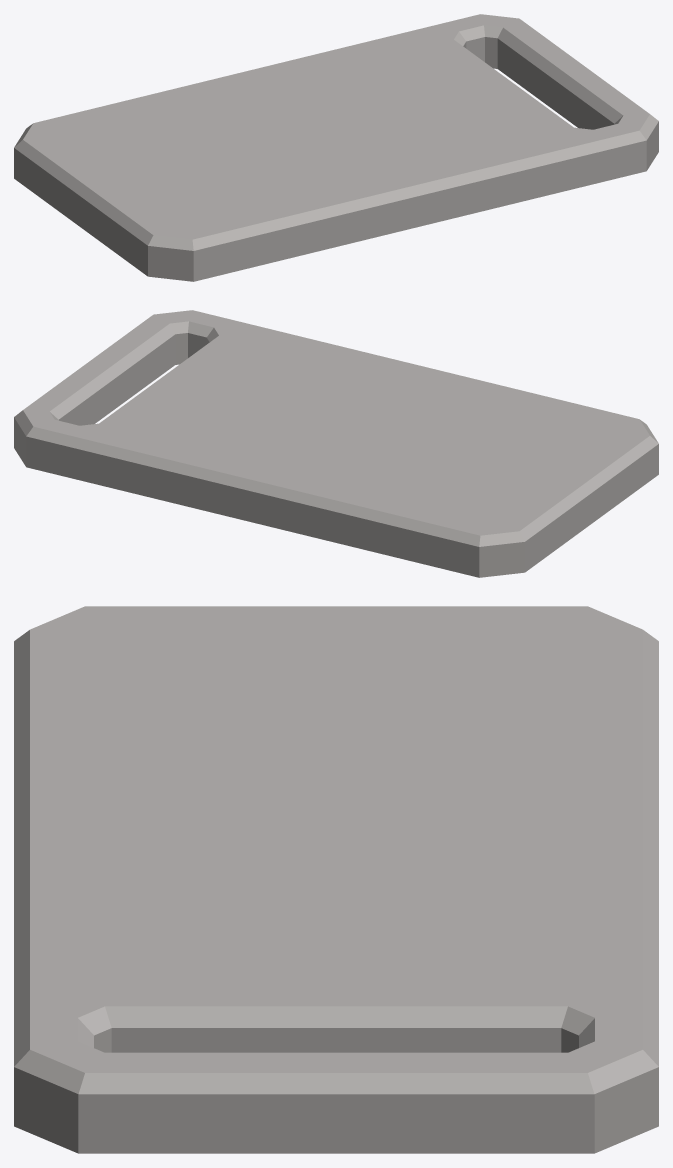
The model's file is SM_Prop_ChoppingBoard_02.glb.
3 renders of one model, top to bottom at view 1: azimuth 30°, elevation 25°; view 2: azimuth 150°, elevation 25°; view 3: azimuth 270°, elevation 25°, orthographic. The views are drawn at different scales.
Visible parts, largest first — view 1: SM_Prop_ChoppingBoard_02; view 2: SM_Prop_ChoppingBoard_02; view 3: SM_Prop_ChoppingBoard_02.
Boxes of the visible parts, left/top/right/bottom form: SM_Prop_ChoppingBoard_02: left=14, top=14, right=658, bottom=281; SM_Prop_ChoppingBoard_02: left=14, top=310, right=658, bottom=577; SM_Prop_ChoppingBoard_02: left=14, top=606, right=658, bottom=1153.
Size of the model in its own units: 0.6663 by 0.0478 by 0.3782.
Materials: 1 (1 with a texture image).
